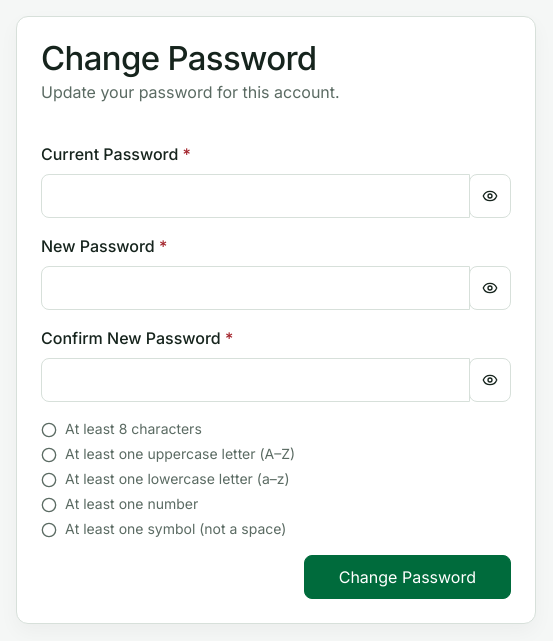
Issue 3 Change Password › UI-05 submits normal-session current/new passwords and returns to fresh login @issue-3
Type "OldPass1!" into the password field labelled "Current Password *". click: (256,196)
box: [41,174,470,218]
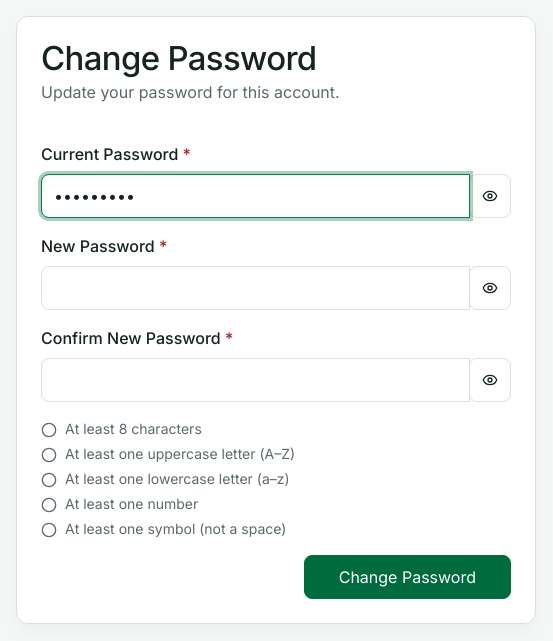
Type "NewPass2!" into the password field labelled "New Password *". click: (256,288)
box: [41,266,470,310]
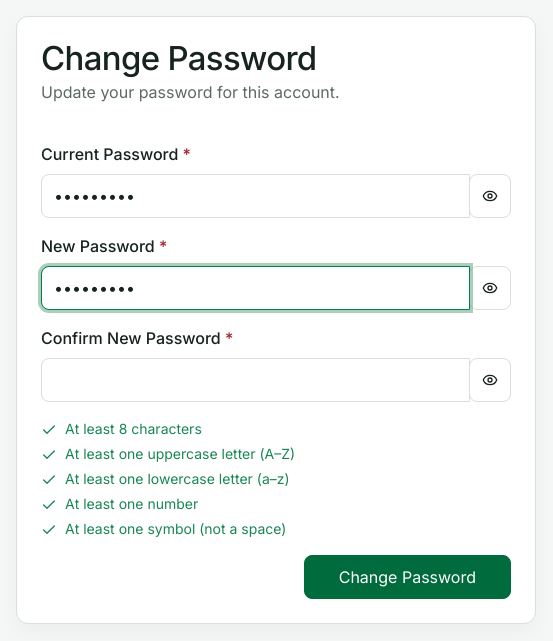
Type "NewPass2!" into the password field labelled "Confirm New Password *". click: (256,380)
box: [41,358,470,402]
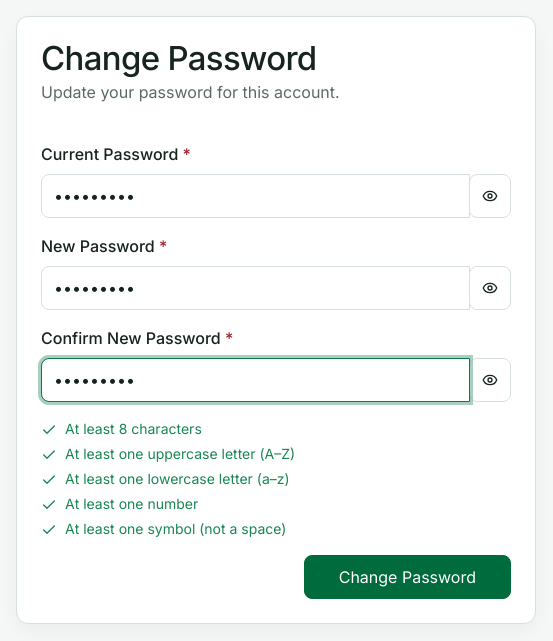
Click the button "Change Password". click: (407,577)
box: [304,555,511,599]
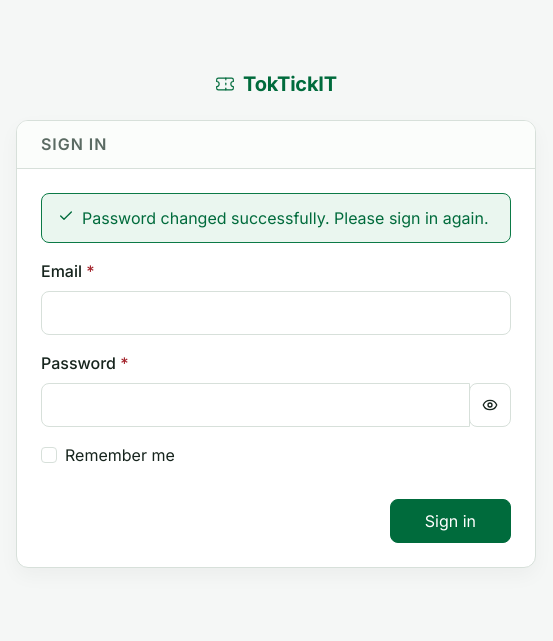
Expected: the heading "Sign in" is shown, [41,135,107,154]
Expected: the text "Password changed successfully. Please sign in again." is shown, [82,206,488,230]
